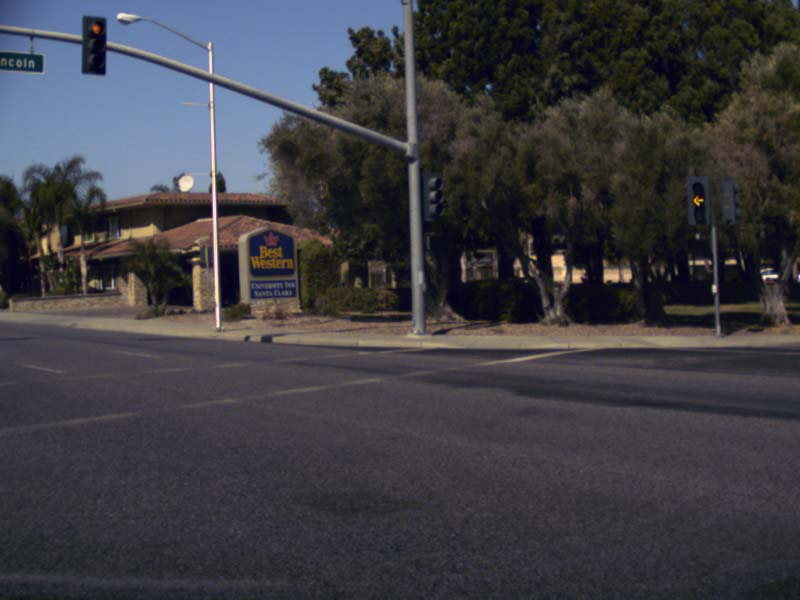Red: (83, 19, 104, 73)
Yellow: (689, 180, 707, 222)
